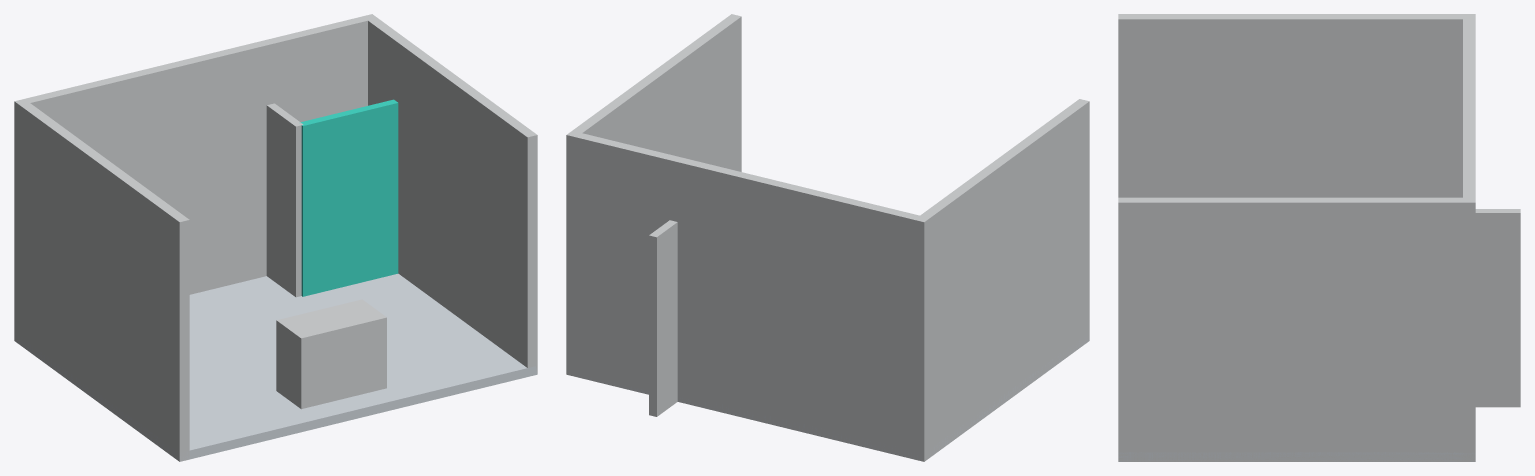
3 renders of one model, left to right at view 1: azimuth 30°, elevation 25°; view 2: azimuth 150°, elevation 25°; view 3: azimuth 270°, elevation 25°, orthographic. The views are drawn at different scales.
Visible parts, largest first — view 1: Exhibition Booth Concept; view 2: Exhibition Booth Concept; view 3: Exhibition Booth Concept.
Boxes of the visible parts, box(x1,y1,x2,y2) form: Exhibition Booth Concept: box(14, 14, 537, 461); Exhibition Booth Concept: box(566, 14, 1089, 461); Exhibition Booth Concept: box(1118, 14, 1520, 461).
Size of the model in its own units: 5 by 3.2 by 4.51.
